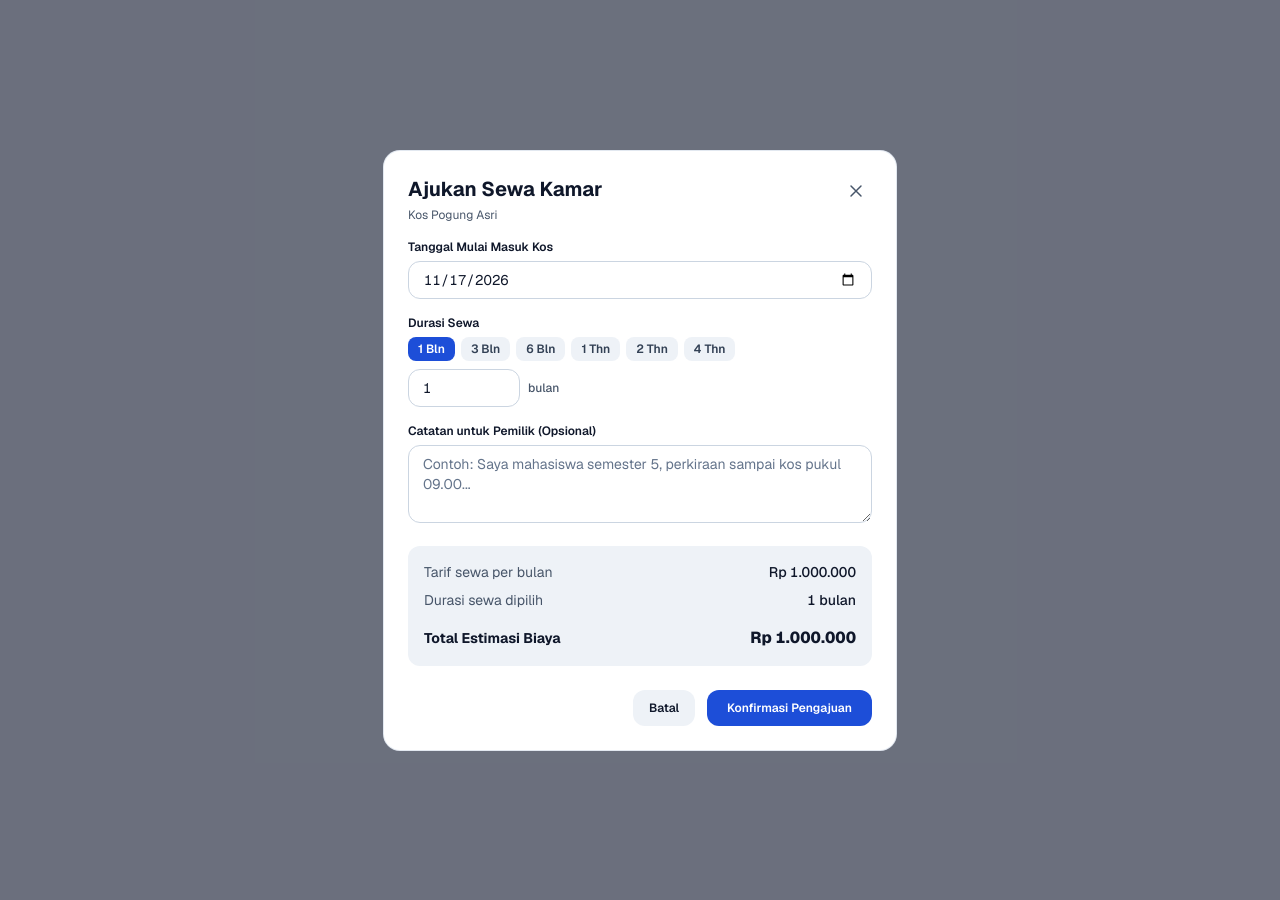
Test: BookingModal and ReviewSection UI integration tests › BookingModal updates cost estimate dynamically, submits trimmed payload, and closes on success
Later steps or results of the test are not shown.
Expected: the text "Rp 1.000.000" is shown 2 times, [769,562,856,582]; [750,626,856,650]
Replace the text in the number field labelled "Durasi Sewa" with "6": (464, 388) [408,368,520,406]
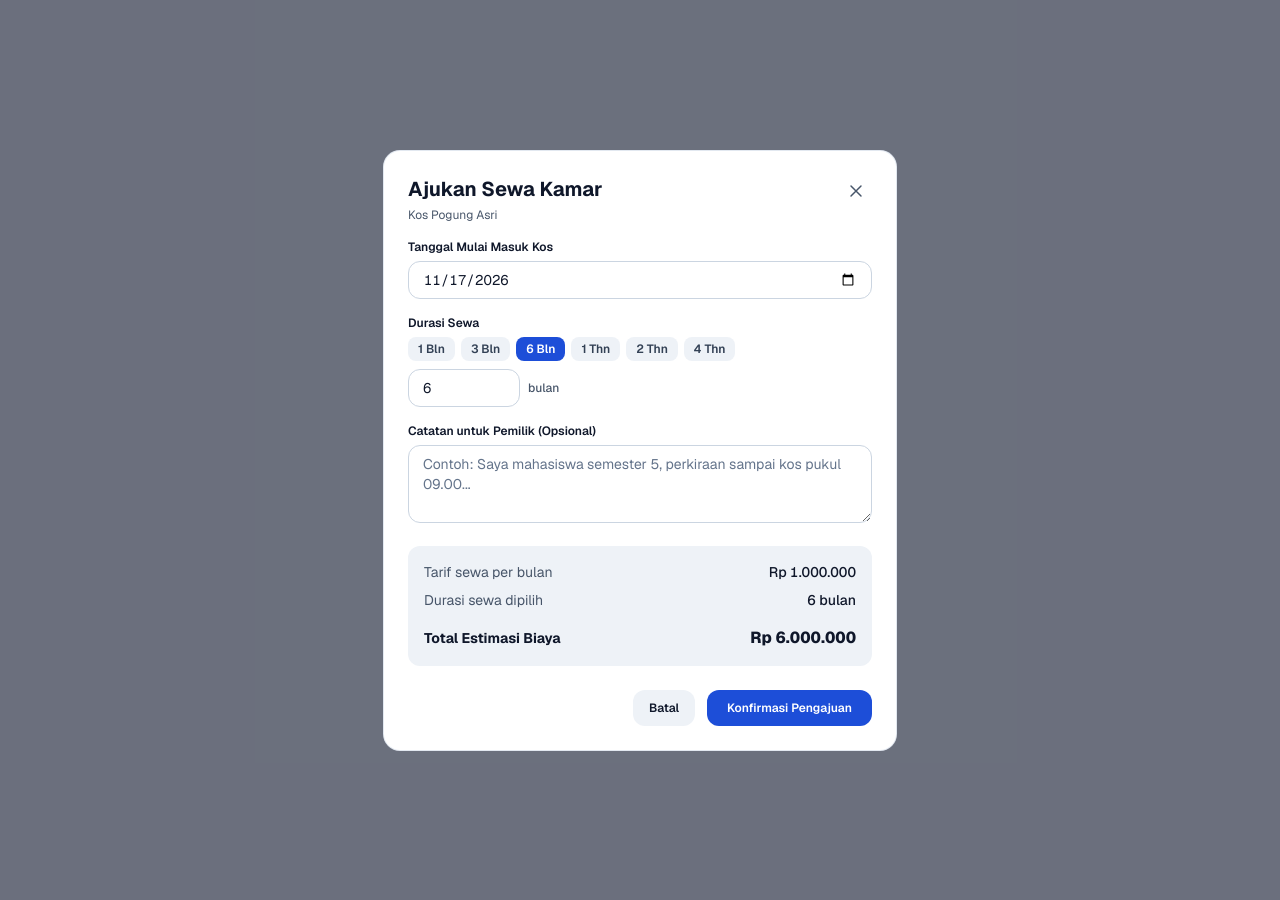
Result: the text "6 bulan" is shown at [807,590,856,610]
Result: the text "Rp 6.000.000" is shown at [750,626,856,650]
